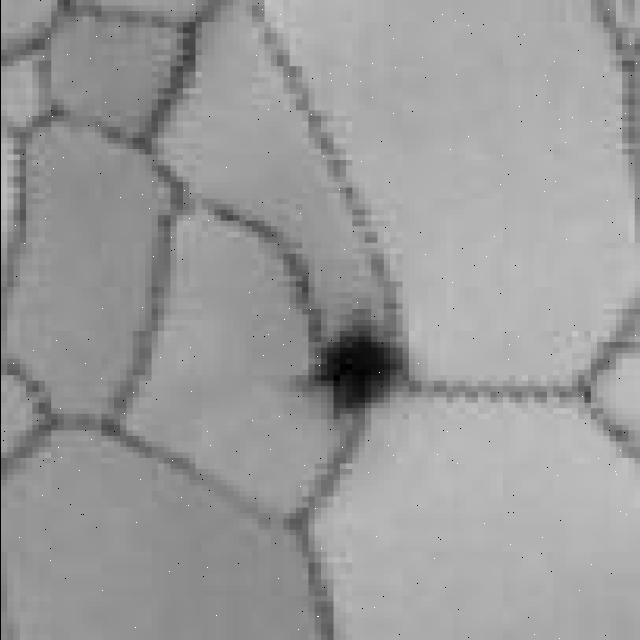good_void: (297, 311, 410, 421)
